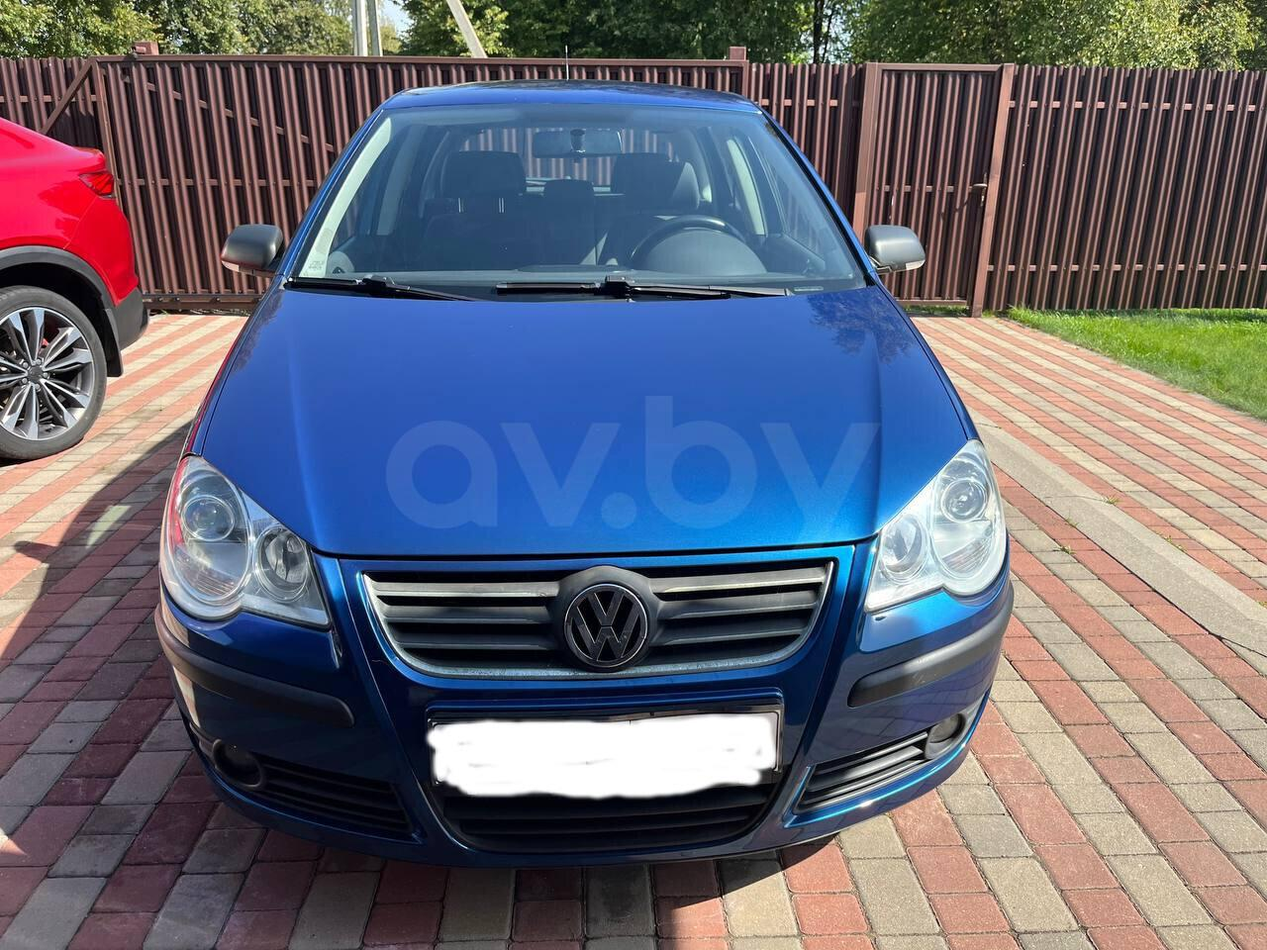Polo_2005-2009: (158, 61, 1037, 876)
